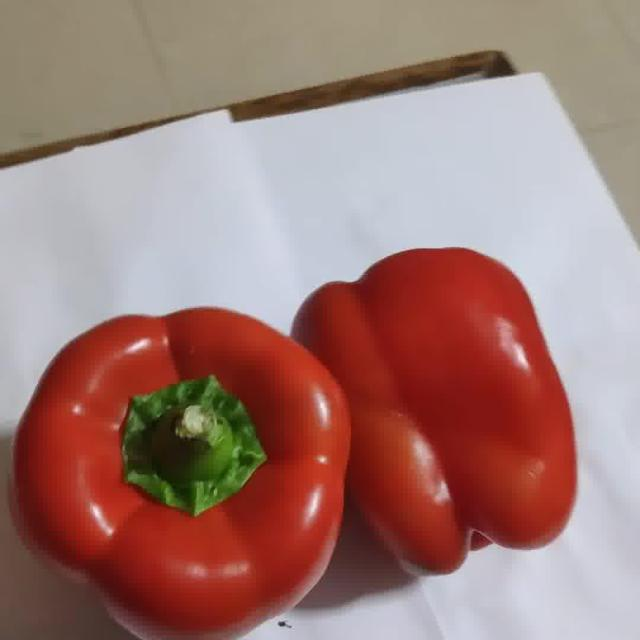Bell Pepper: (15, 308, 350, 638), (295, 249, 576, 573)
